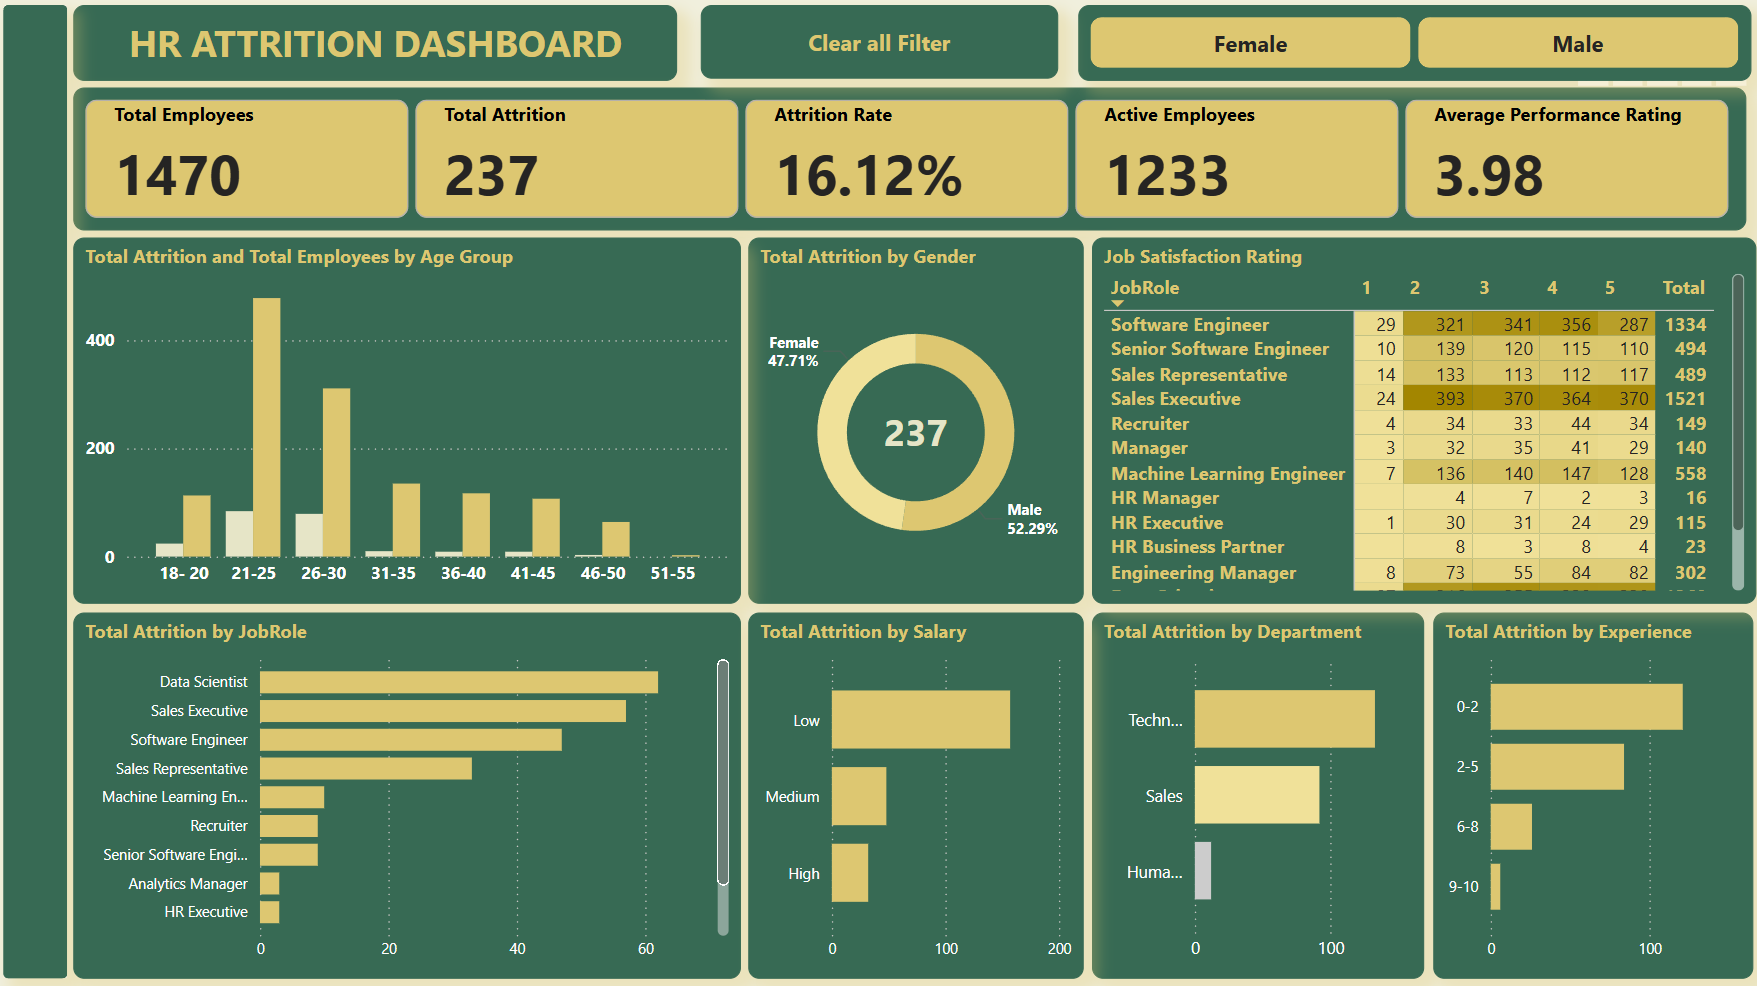

This screenshot's page, from the dashboard's own definition file:
{"tool":"powerbi","page":{"name":"Attrition Dashboard","canvas":[1280,720],"ordinal":0},"visuals":[{"type":"textbox","box":[55.2,3.7,439.3,55.2],"z":0},{"type":"cardVisual","fields":{"Data":["Measure Table.Total Employees","Measure Table.Total Attrition","Measure Table.Attrition Rate","Measure Table.Active Employees","Measure Table.Average Performance"]},"box":[55.2,63.8,1217.2,104.3],"z":1000},{"type":"donutChart","fields":{"Category":["Employees.Gender"],"Y":["Measure Table.Total Attrition"]},"box":[546,173,244.2,266.3],"z":2000},{"type":"shape","box":[4.9,3.7,46.6,708],"z":3000},{"type":"clusteredColumnChart","fields":{"Category":["Employees.Age Group"],"Y":["Measure Table.Total Attrition","Measure Table.Total Employees"]},"box":[55.2,173,485.9,266.3],"z":4000},{"type":"clusteredBarChart","fields":{"Y":["Measure Table.Total Attrition"],"Category":["Employees.JobRole"]},"box":[55.2,445.4,485.9,266.3],"z":5000},{"type":"barChart","fields":{"Category":["Employees.Department"],"Y":["Measure Table.Total Attrition"]},"box":[796.3,445.4,241.7,266.3],"z":6000},{"type":"advancedSlicerVisual","fields":{"Values":["Employees.Gender"]},"box":[786.5,3.7,489.6,55.2],"z":7000},{"type":"clusteredBarChart","fields":{"Y":["Measure Table.Total Attrition"],"Category":["Employees.Salary Group"]},"box":[546,445.4,244.2,266.3],"z":8000},{"type":"clusteredBarChart","title":"Total Attrition by Experience","fields":{"Y":["Measure Table.Total Attrition"],"Category":["Employees.ExperienceGroup"]},"box":[1044.2,445.4,233.1,266.3],"z":9000},{"type":"pivotTable","title":"Job Satisfaction Rating","fields":{"Rows":["Employees.JobRole"],"Columns":["Performance Rating.JobSatisfaction"],"Values":["Measure Table.Employees"]},"box":[796.3,173,483.4,266.3],"z":10000},{"type":"card","fields":{"Values":["Measure Table.Total Attrition"]},"box":[630.7,287.1,74.8,56.4],"z":11000},{"type":"actionButton","box":[511.7,7.4,260.1,50.3],"z":12000}]}

Visuals, with their boxes in screenshot pixels (x1, y1, x2, y2), scaled from the page's 1280x720 canvas onto the 1757x986 screenshot:
textbox: 76,5,679,81
cardVisual - Measure Table.Total Employees x Measure Table.Total Attrition: 76,87,1747,230
donutChart - Employees.Gender x Measure Table.Total Attrition: 749,237,1085,602
shape: 7,5,71,975
clusteredColumnChart - Employees.Age Group x Measure Table.Total Attrition: 76,237,743,602
clusteredBarChart - Measure Table.Total Attrition x Employees.JobRole: 76,610,743,975
barChart - Employees.Department x Measure Table.Total Attrition: 1093,610,1425,975
advancedSlicerVisual - Employees.Gender: 1080,5,1752,81
clusteredBarChart - Measure Table.Total Attrition x Employees.Salary Group: 749,610,1085,975
"Total Attrition by Experience" clusteredBarChart: 1433,610,1753,975
"Job Satisfaction Rating" pivotTable: 1093,237,1756,602
card - Measure Table.Total Attrition: 866,393,968,470
actionButton: 702,10,1059,79
